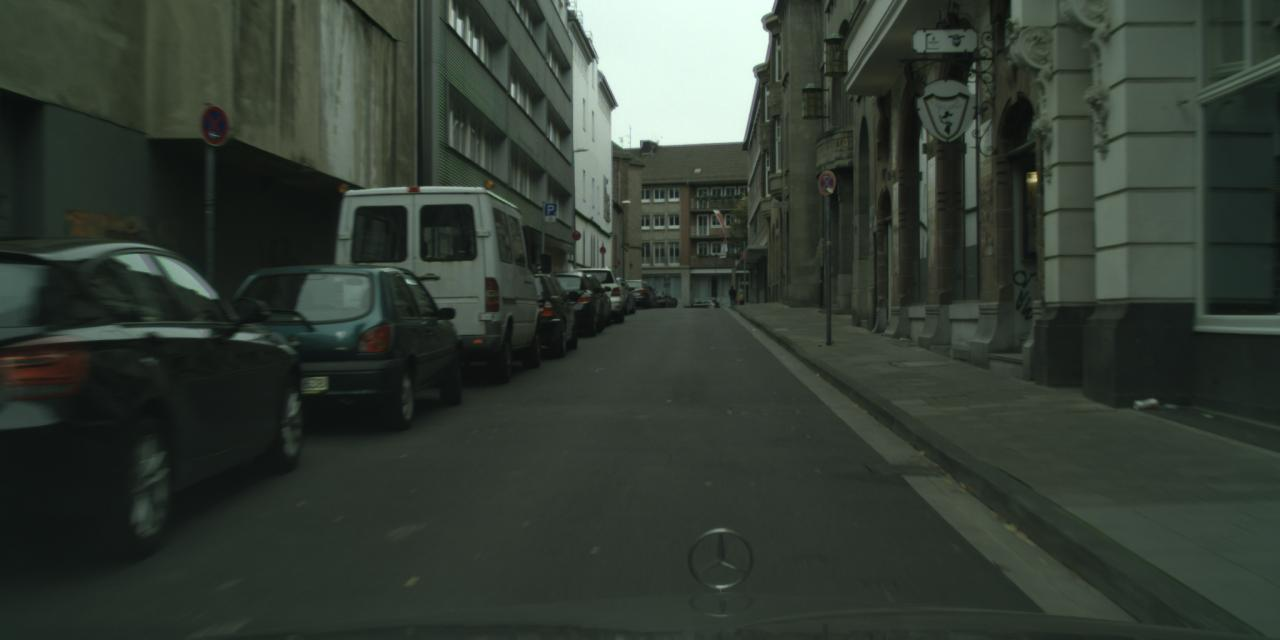ped: (728, 286, 736, 306), (736, 288, 744, 306)
